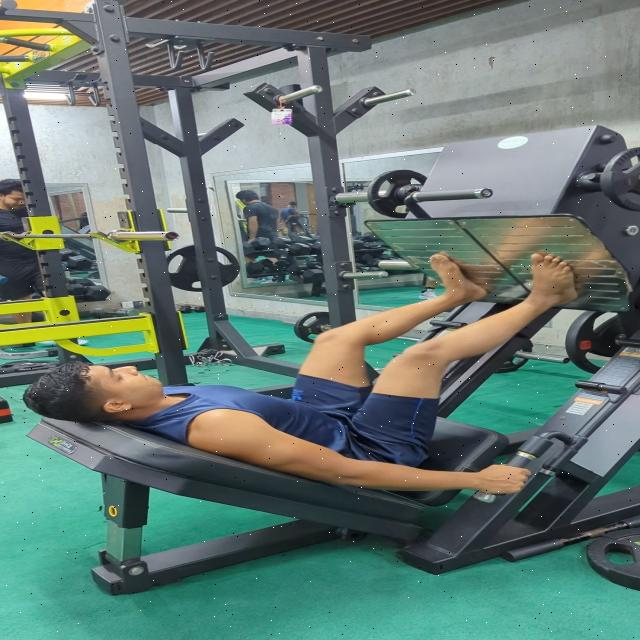Normal_LegPress: (18, 248, 601, 500)
